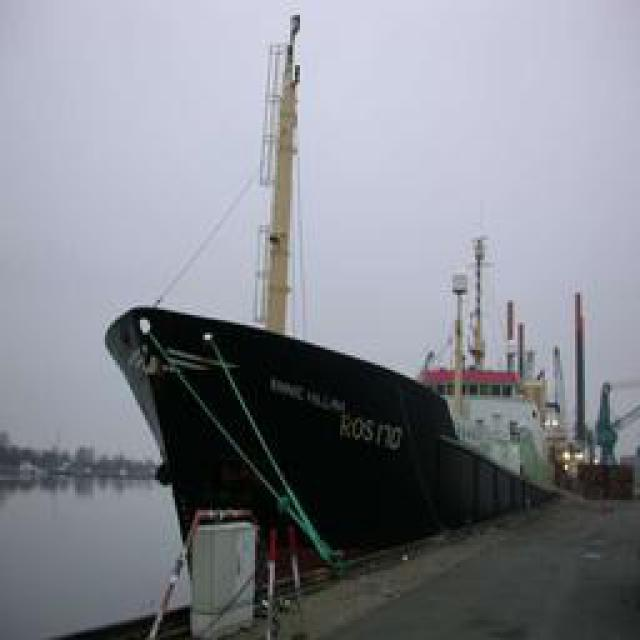Ship: (105, 222, 612, 591)
